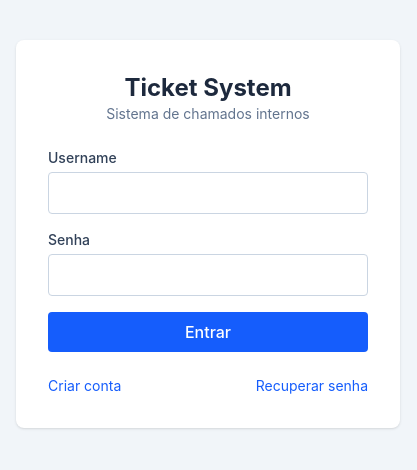
Test case: LoginView › requires username and password before trying to log in
Click the button "Entrar": click(208, 332) [48, 312, 368, 352]
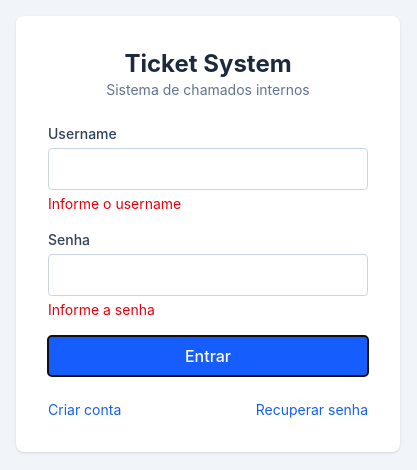
Expected: the text "Informe o username" is shown, [48, 195, 181, 212]
Expected: the text "Informe a senha" is shown, [48, 301, 155, 318]
